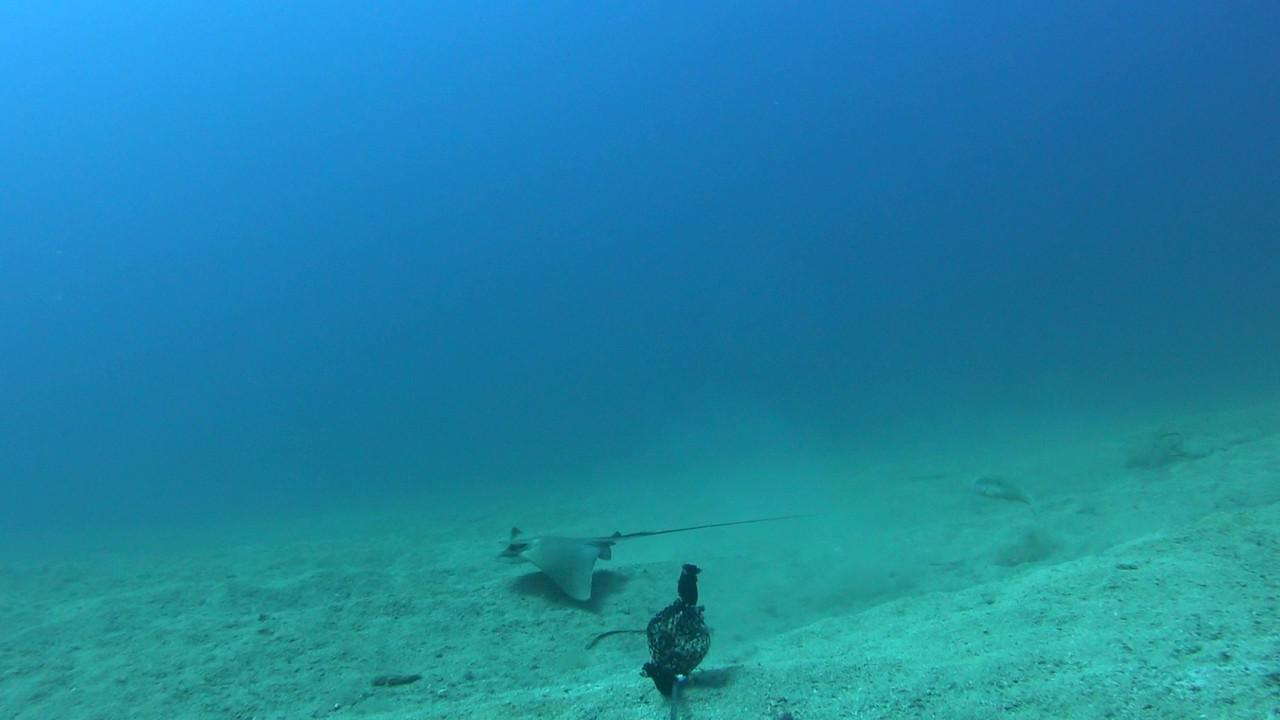myliobatis: (491, 490, 799, 594)
raor: (968, 468, 1032, 509)
